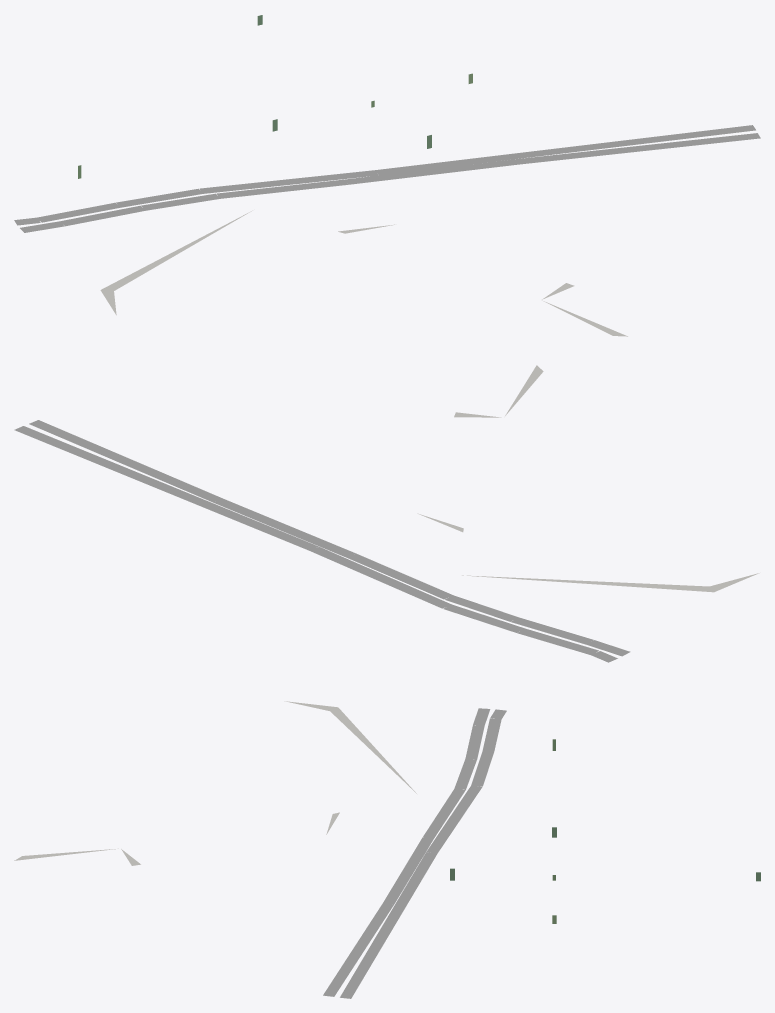
3 renders of one model, top to bottom at view 1: azimuth 30°, elevation 25°; view 2: azimuth 150°, elevation 25°; view 3: azimuth 270°, elevation 25°, orthographic. The views are drawn at different scales.
Size of the model in its own units: 413 by 8.17 by 439.
